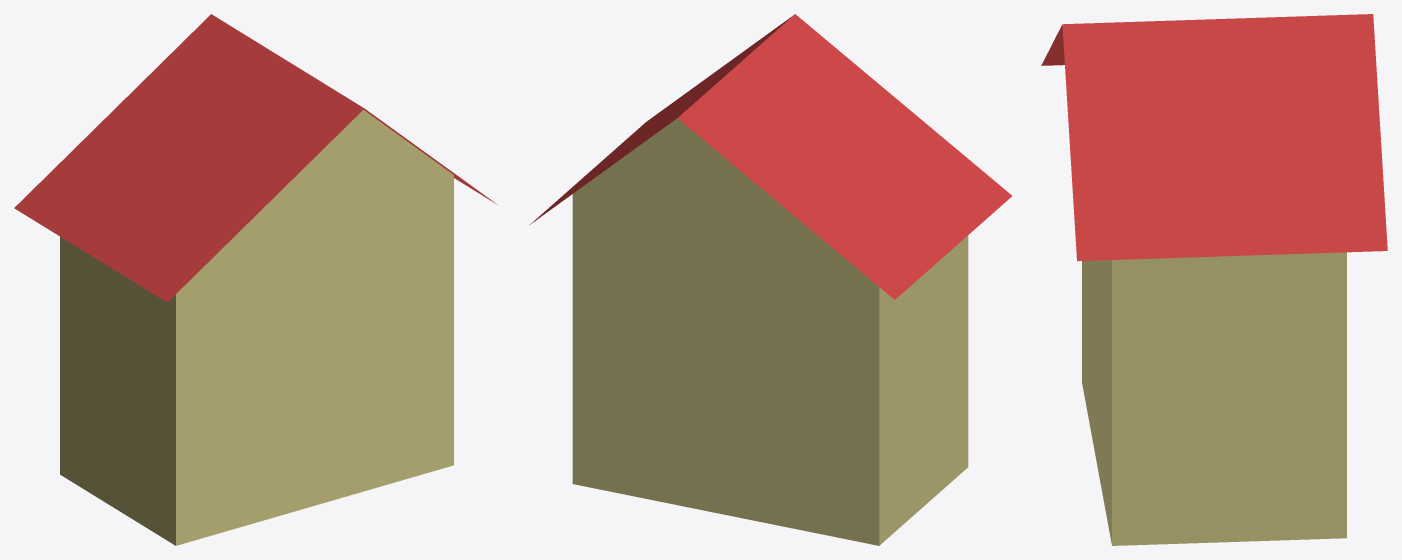
3 views of the same model, side by side, from view 1: azimuth 30°, elevation 25°; view 2: azimuth 150°, elevation 25°; view 3: azimuth 270°, elevation 25° (orthographic). The views are drawn at different scales.
Bounding box in the file's own units: 6.4 × 4.56 × 6.67.
